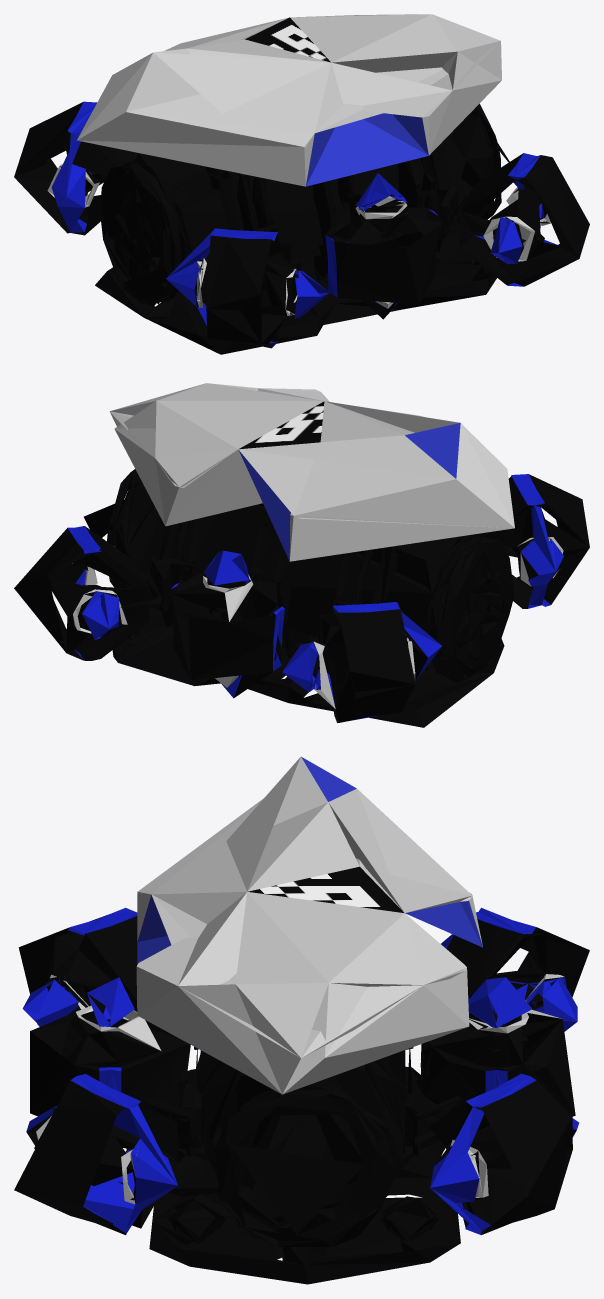
File: bricsbot_collision_candidate.obj
The picture shows the model from 3 angles, top to bottom: view 1: azimuth 30°, elevation 25°; view 2: azimuth 150°, elevation 25°; view 3: azimuth 270°, elevation 25°; orthographic projection. The views are drawn at different scales.
Visible parts, largest first — view 1: bot_shark; view 2: bot_shark; view 3: bot_shark.
Boxes of the visible parts, x1,y1,x2,y2 form: bot_shark: [14, 14, 589, 354]; bot_shark: [14, 383, 589, 727]; bot_shark: [14, 756, 589, 1284].
Bounding box in the file's own units: 0.3921 × 0.2361 × 0.3682.
7 materials, 1 textured.
